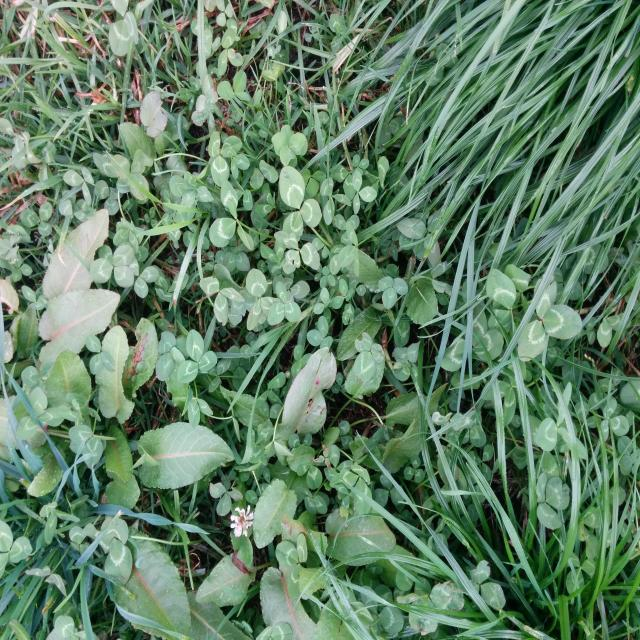Four Leaf Clover: (271, 124, 308, 168)
